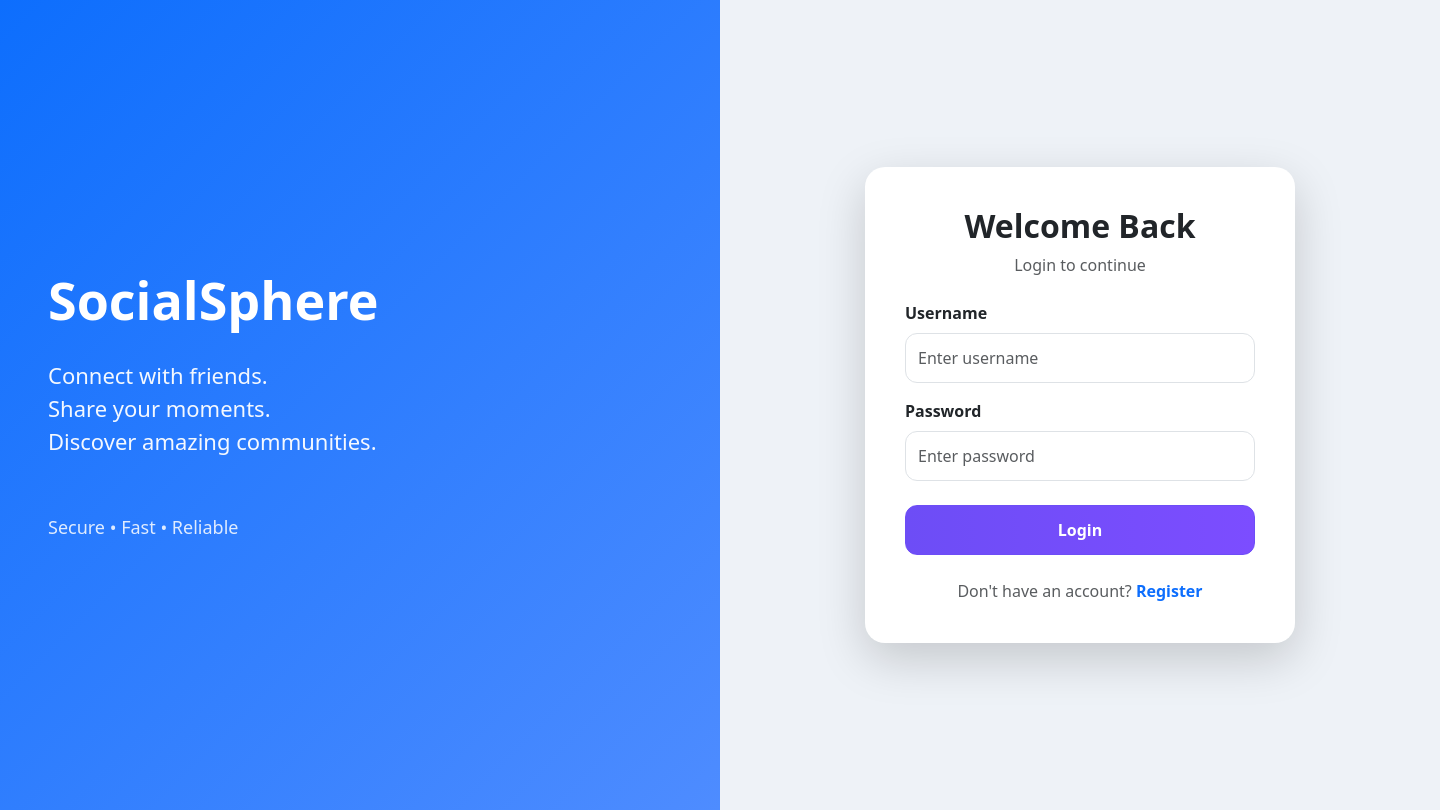
Test case: LoginPage › shows validation errors when fields are empty and form is submitted
The width and height of the screenshot is (1440, 810).
Click the button "Login" at (1080, 530), box [905,505,1255,555]
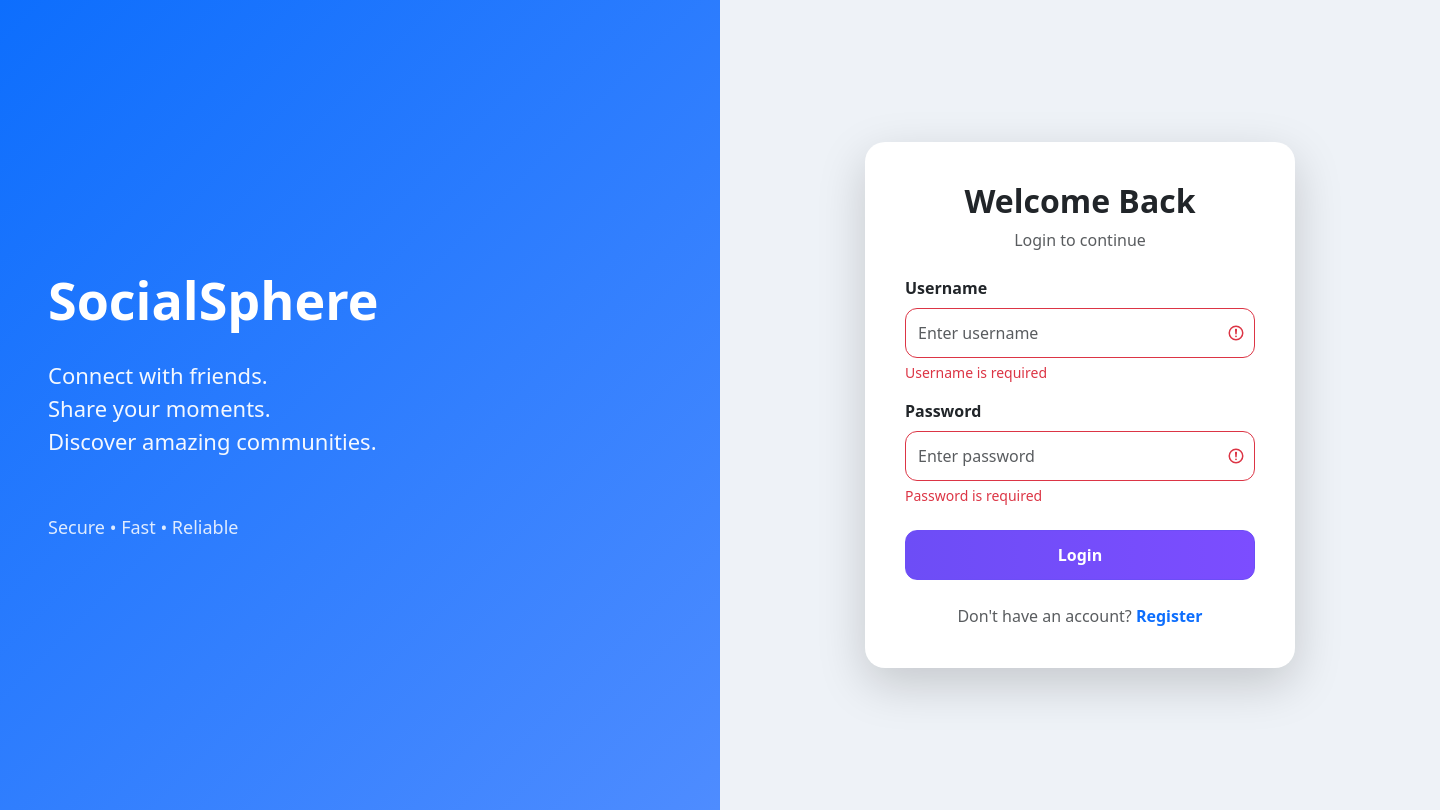
expect the text "Username is required" is shown: met, box [905,363,1047,382]
expect the text "Password is required" is shown: met, box [905,486,1042,505]
